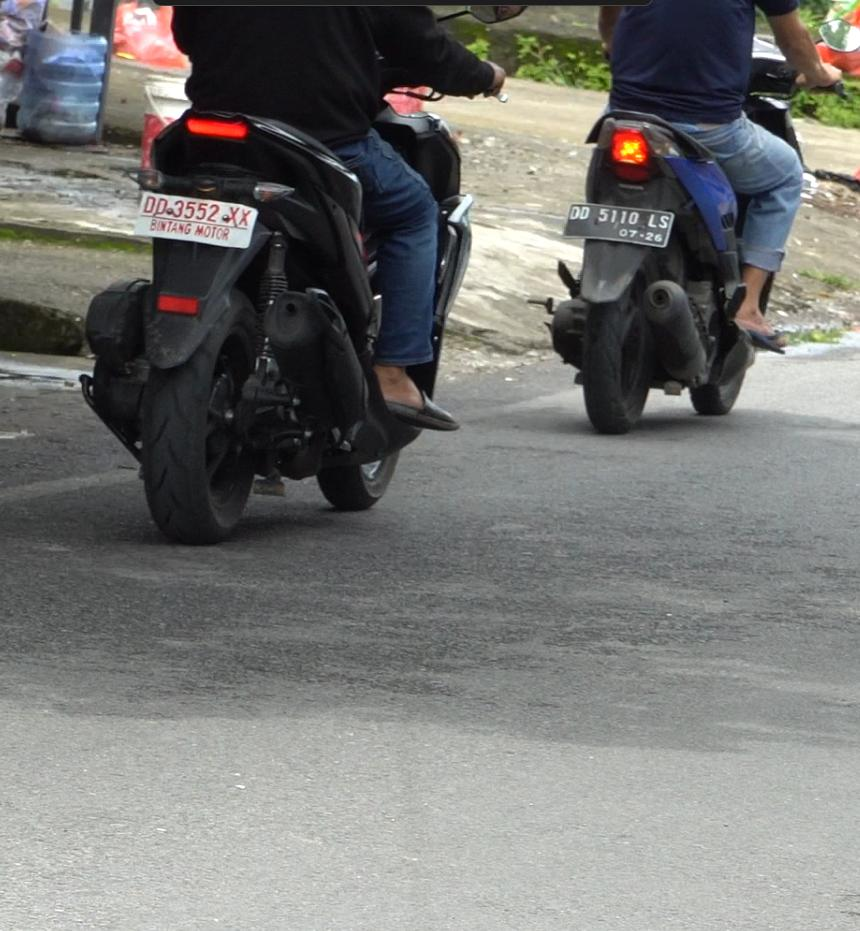number-plate: (135, 191, 262, 249), (562, 202, 675, 251)
